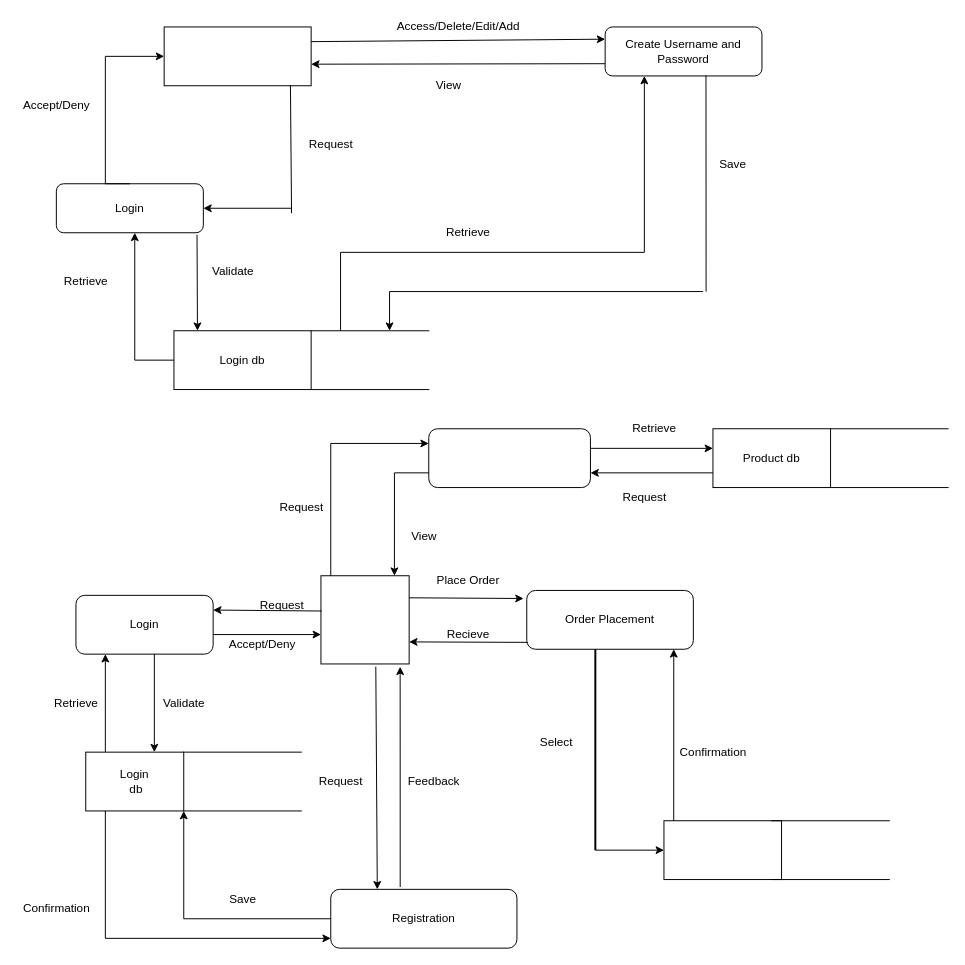
The diagram is 965 pixels wide and 965 high, and some of its shapes have lost their labels. The centre of each missing label's shape, as x and y in pixels:
ADMIN: the point at 237,56
CUSTOMER: the point at 364,619
Get Product list & Description: the point at 509,458
Order db: the point at 722,850
